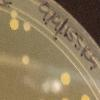yellow: (59, 71, 70, 87), (9, 18, 19, 32), (21, 21, 30, 32), (22, 55, 30, 66), (10, 10, 17, 18), (80, 94, 88, 100), (63, 96, 69, 100)
